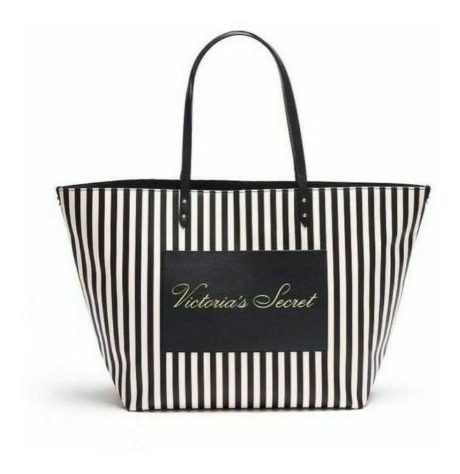cartera: (53, 29, 433, 412)
